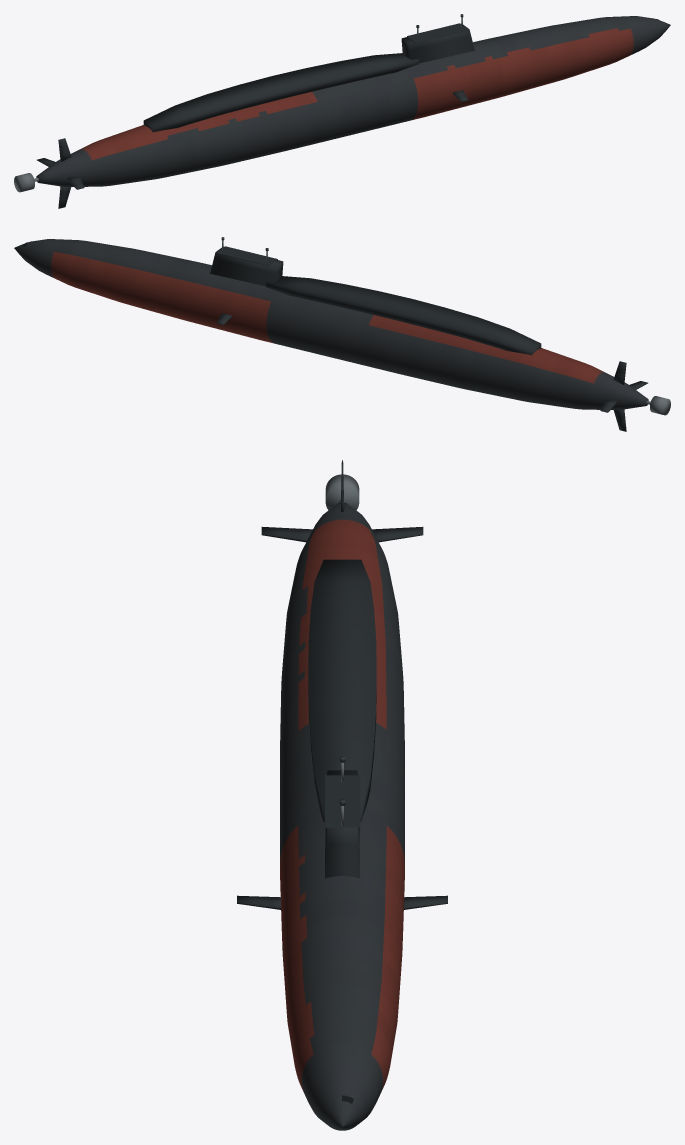
The model's file is UK_SSBN_Vanguard.glb.
3 renders of one model, top to bottom at view 1: azimuth 30°, elevation 25°; view 2: azimuth 150°, elevation 25°; view 3: azimuth 270°, elevation 25°, orthographic. The views are drawn at different scales.
Parts seen in each view (by area): view 1: UK_SSBN_Vanguard_LOD0; view 2: UK_SSBN_Vanguard_LOD0; view 3: UK_SSBN_Vanguard_LOD0.
Part boxes in pixels (bbox=[...]): UK_SSBN_Vanguard_LOD0: bbox=[14, 14, 670, 208]; UK_SSBN_Vanguard_LOD0: bbox=[14, 237, 670, 431]; UK_SSBN_Vanguard_LOD0: bbox=[237, 460, 447, 1130].
Bounding box in the file's own units: 155 × 21.64 × 21.61.
6 materials, 1 textured.
